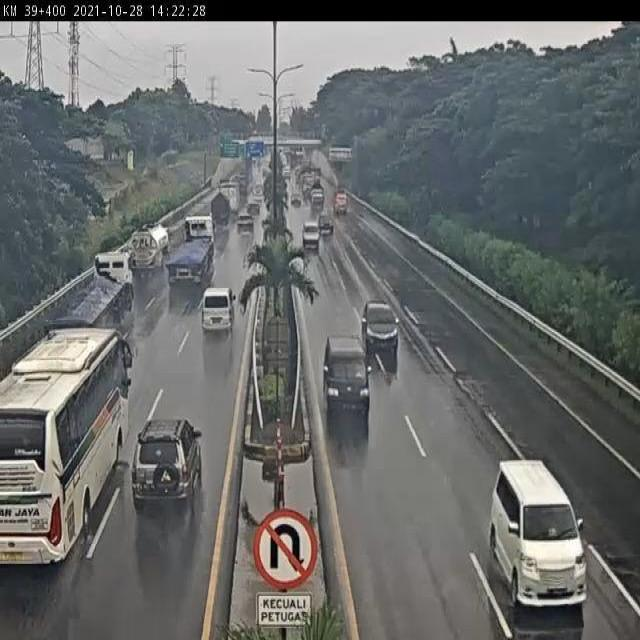bus-l-: (0, 324, 129, 575)
car: (130, 419, 203, 512), (198, 281, 237, 339), (361, 295, 397, 349), (233, 215, 256, 241)
truck-m-: (119, 223, 169, 280)
truck-s-: (209, 194, 234, 238)
truck-xl-: (32, 257, 132, 356), (161, 216, 214, 291)
